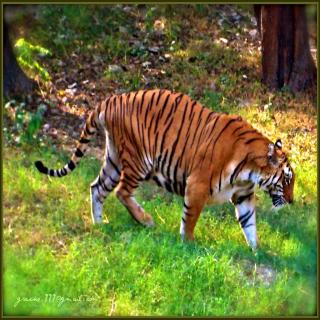Tiger: (34, 88, 296, 256)
